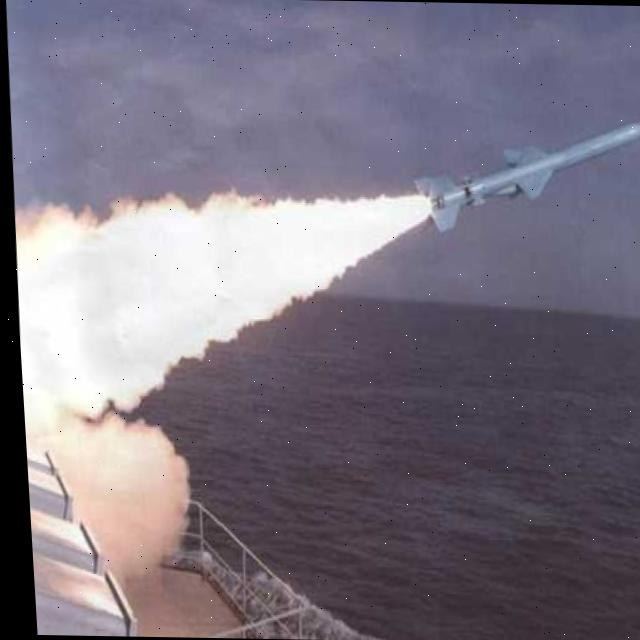missile: (407, 118, 640, 226)
